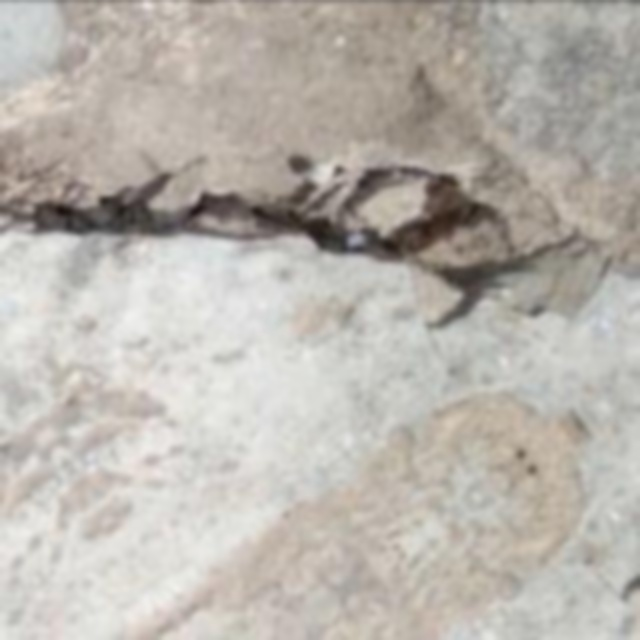SurfaceCrack: (30, 116, 574, 366)
